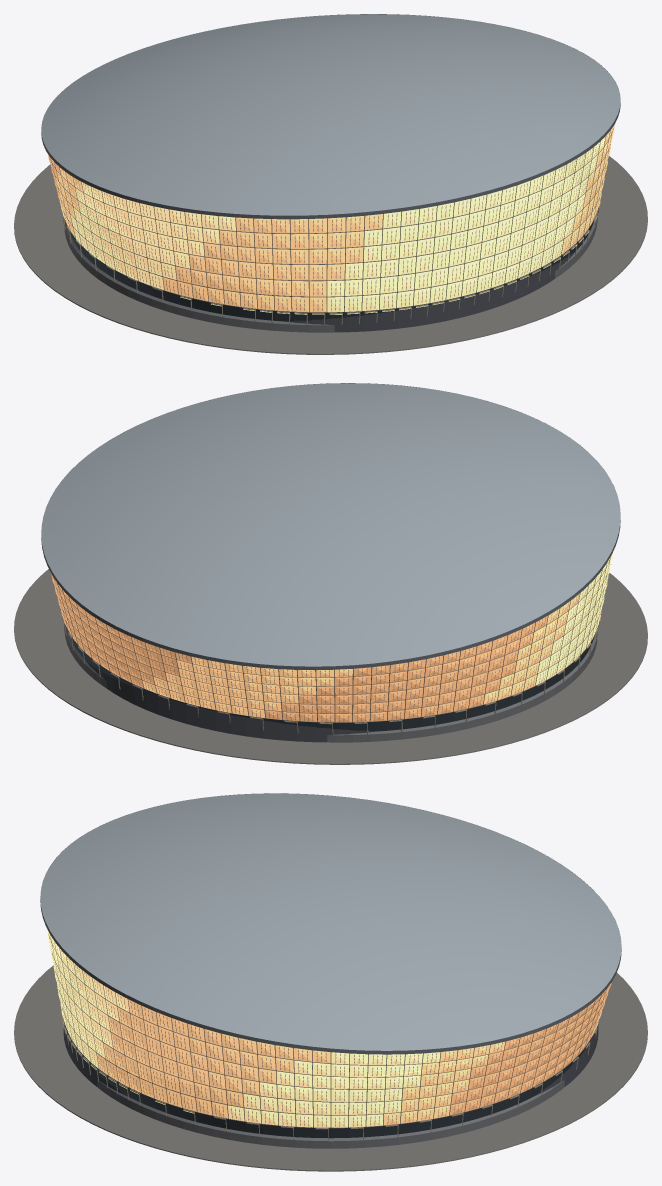
Rendered from shell.glb.
3 renders of one model, top to bottom at view 1: azimuth 30°, elevation 25°; view 2: azimuth 150°, elevation 25°; view 3: azimuth 270°, elevation 25°, orthographic. The views are drawn at different scales.
Visible parts, largest first — view 1: shell_roof_canopy_aluminium, shell_bowl_mass_facade_panels_etfe_1, shell_field_floor_forecourt, shell_bowl_mass_facade_panels_etfe_0, shell_bowl_mass_cushion_supports, shell_bowl_mass_facade_panels_frit, shell_bowl_mass_terrace_back, shell_bowl_mass_concrete_podium, shell_bowl_mass_concourse_glazing, shell_roof_truss_eave_beam, shell_vomitories_entrance_frames, shell_field_floor_event_slab (+2 smaller); view 2: shell_roof_canopy_aluminium, shell_field_floor_forecourt, shell_bowl_mass_facade_panels_etfe_2, shell_bowl_mass_facade_panels_etfe_0, shell_bowl_mass_cushion_supports, shell_bowl_mass_facade_panels_frit, shell_bowl_mass_terrace_back, shell_bowl_mass_concrete_podium, shell_bowl_mass_concourse_glazing, shell_bowl_mass_facade_panels_etfe_1, shell_roof_truss_eave_beam, shell_bowl_mass_forecourt_edge (+1 smaller); view 3: shell_roof_canopy_aluminium, shell_field_floor_forecourt, shell_bowl_mass_facade_panels_etfe_0, shell_bowl_mass_facade_panels_etfe_1, shell_bowl_mass_cushion_supports, shell_bowl_mass_facade_panels_etfe_2, shell_bowl_mass_facade_panels_frit, shell_bowl_mass_concrete_podium, shell_bowl_mass_concourse_glazing, shell_roof_truss_eave_beam, shell_bowl_mass_terrace_back, shell_bowl_mass_forecourt_edge (+3 smaller).
Boxes of the visible parts, box(x1,y1,x2,y2) form: shell_roof_canopy_aluminium: box(41, 14, 620, 215); shell_bowl_mass_facade_panels_etfe_1: box(70, 136, 605, 312); shell_field_floor_forecourt: box(14, 156, 647, 353); shell_bowl_mass_facade_panels_etfe_0: box(55, 123, 615, 312); shell_bowl_mass_cushion_supports: box(49, 128, 613, 312); shell_bowl_mass_facade_panels_frit: box(49, 131, 612, 311); shell_bowl_mass_terrace_back: box(102, 162, 588, 332); shell_bowl_mass_concrete_podium: box(64, 210, 597, 332); shell_bowl_mass_concourse_glazing: box(70, 215, 595, 321); shell_roof_truss_eave_beam: box(41, 14, 620, 219); shell_vomitories_entrance_frames: box(62, 204, 599, 325); shell_field_floor_event_slab: box(182, 205, 479, 284); shell_roof_canopy_aluminium: box(41, 383, 620, 666); shell_field_floor_forecourt: box(14, 569, 647, 763); shell_bowl_mass_facade_panels_etfe_2: box(50, 572, 547, 722); shell_bowl_mass_facade_panels_etfe_0: box(142, 593, 601, 717); shell_bowl_mass_cushion_supports: box(53, 557, 610, 722); shell_bowl_mass_facade_panels_frit: box(57, 558, 610, 721); shell_bowl_mass_terrace_back: box(84, 659, 459, 742); shell_bowl_mass_concrete_podium: box(64, 625, 597, 742); shell_bowl_mass_concourse_glazing: box(66, 627, 594, 731); shell_bowl_mass_facade_panels_etfe_1: box(535, 551, 613, 685); shell_roof_truss_eave_beam: box(41, 383, 620, 670); shell_bowl_mass_forecourt_edge: box(14, 632, 647, 764); shell_roof_canopy_aluminium: box(40, 793, 621, 1050); shell_field_floor_forecourt: box(14, 965, 647, 1170); shell_bowl_mass_facade_panels_etfe_0: box(97, 997, 606, 1125); shell_bowl_mass_facade_panels_etfe_1: box(47, 929, 440, 1127); shell_bowl_mass_cushion_supports: box(48, 934, 609, 1128); shell_bowl_mass_facade_panels_etfe_2: box(449, 983, 611, 1115); shell_bowl_mass_facade_panels_frit: box(48, 933, 608, 1126); shell_bowl_mass_concrete_podium: box(97, 1080, 564, 1148); shell_bowl_mass_concourse_glazing: box(65, 1024, 592, 1138); shell_roof_truss_eave_beam: box(40, 793, 621, 1054); shell_bowl_mass_terrace_back: box(63, 1020, 598, 1127); shell_bowl_mass_forecourt_edge: box(14, 1034, 647, 1171).
Size of the model in its own units: 184 by 48.12 by 178.
